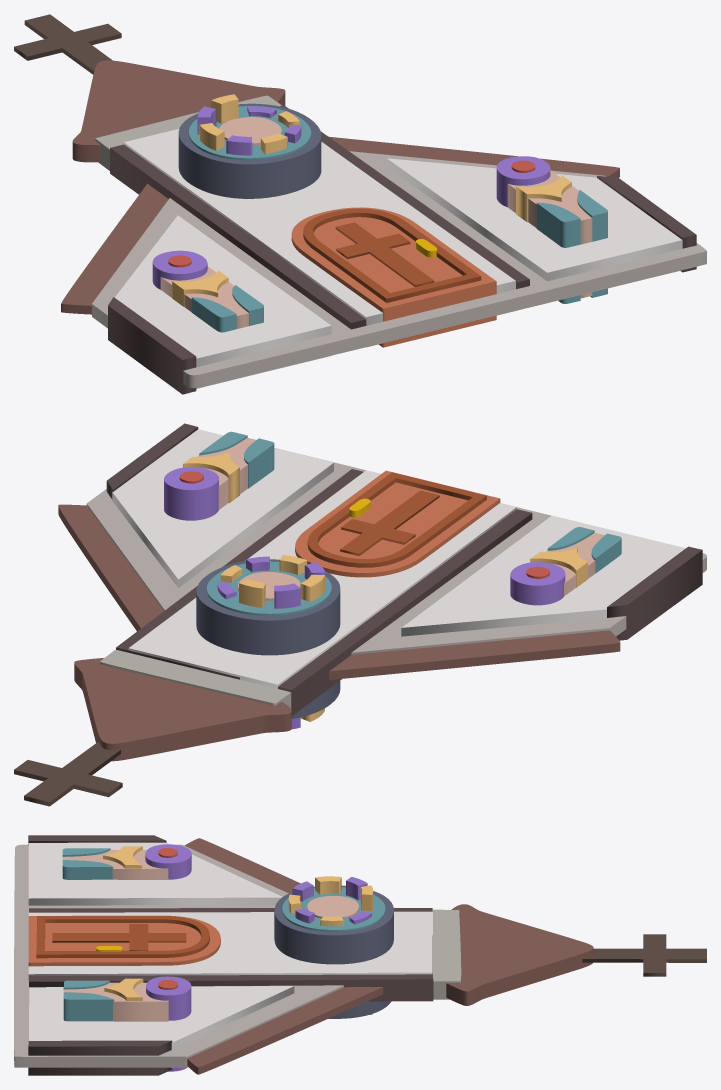
File: emoji_u26ea.glb
3 views of the same model, one above another, from view 1: azimuth 30°, elevation 25°; view 2: azimuth 150°, elevation 25°; view 3: azimuth 270°, elevation 25° (orthographic). The views are drawn at different scales.
Visible parts, largest first — view 1: emoji_u26ea; view 2: emoji_u26ea; view 3: emoji_u26ea.
Boxes of the visible parts, left/top/right/bottom form: emoji_u26ea: left=14, top=14, right=706, bottom=394; emoji_u26ea: left=14, top=423, right=706, bottom=806; emoji_u26ea: left=14, top=835, right=706, bottom=1075.
Size of the model in its own units: 0.0271 by 0.0066 by 0.0345.
